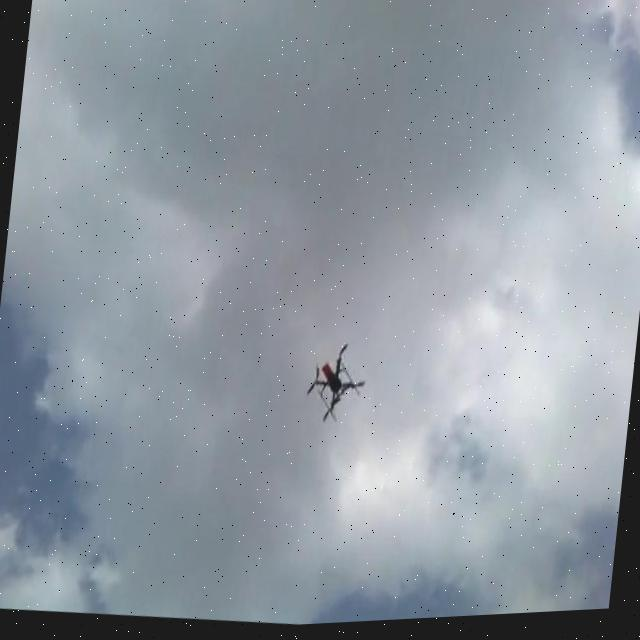drone: (300, 336, 370, 432)
